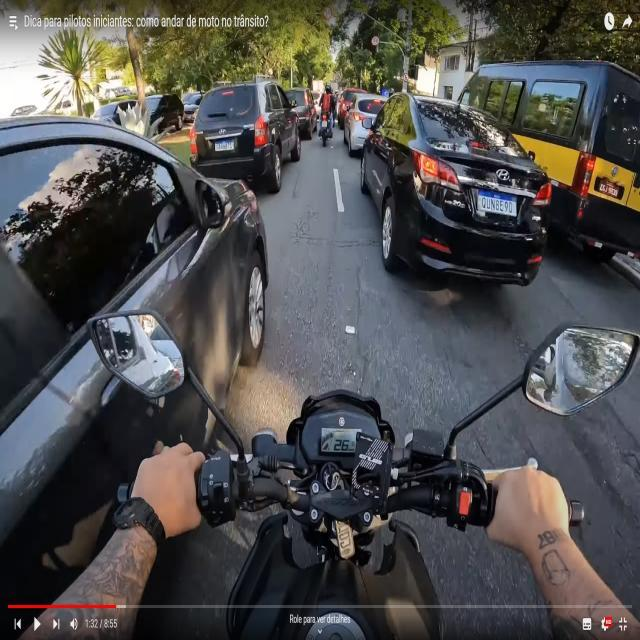Placa_mercosul_carro: (477, 192, 517, 217), (215, 138, 234, 151)
placa_moto: (322, 121, 327, 127)
